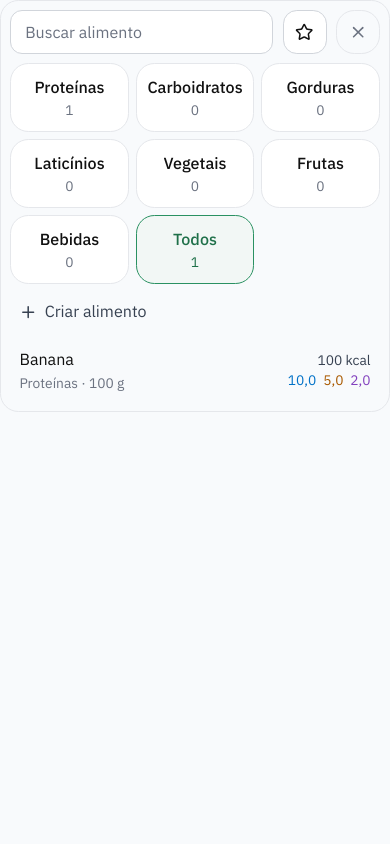
Test case: creating a food without leaving the picker › saves through the same service as /alimentos, then picks the new food and returns to search
This screenshot has width=390, height=844.
Check: the search field named "Buscar alimento para adicionar" is enabled, box [10,10,274,54]
Click the button "Criar alimento".
click(96, 311)  # box [10,293,380,330]
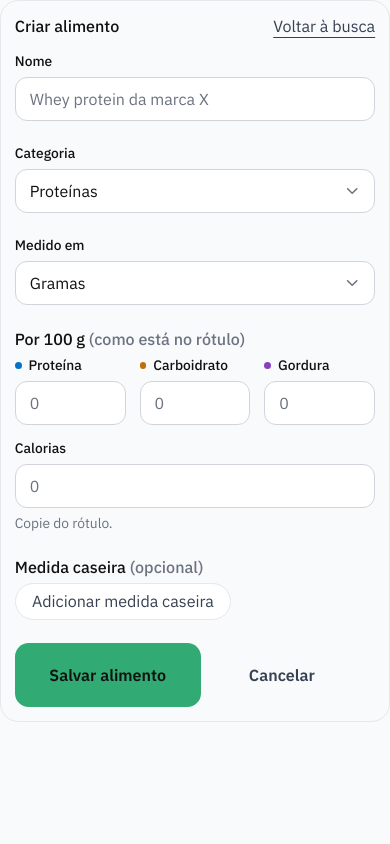
Type "Barra proteica" into the field labelled "Nome".
click(195, 99); type("Barra proteica")  # box [15,77,375,121]
Type "100" into the field labelled "Calorias".
click(195, 486); type("100")  # box [15,464,375,508]
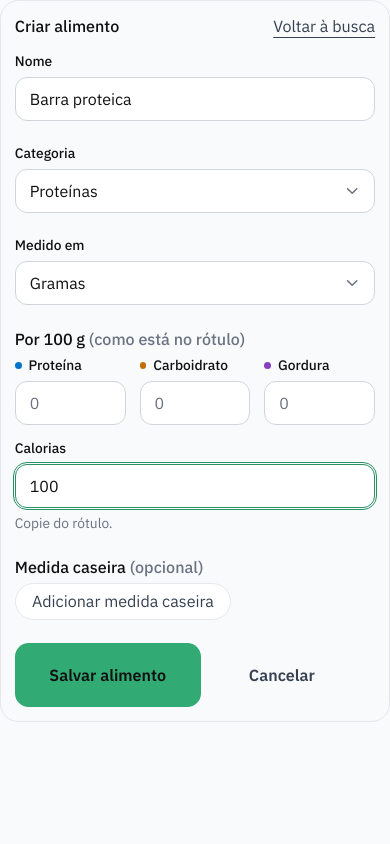
Type "10" into the field labelled "Proteína".
click(70, 403); type("10")  # box [15,381,126,425]
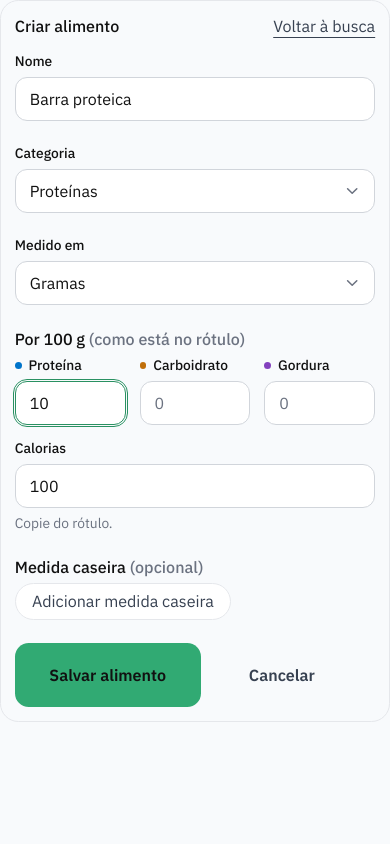
Type "10" into the field labelled "Carboidrato".
click(195, 403); type("10")  # box [140,381,250,425]
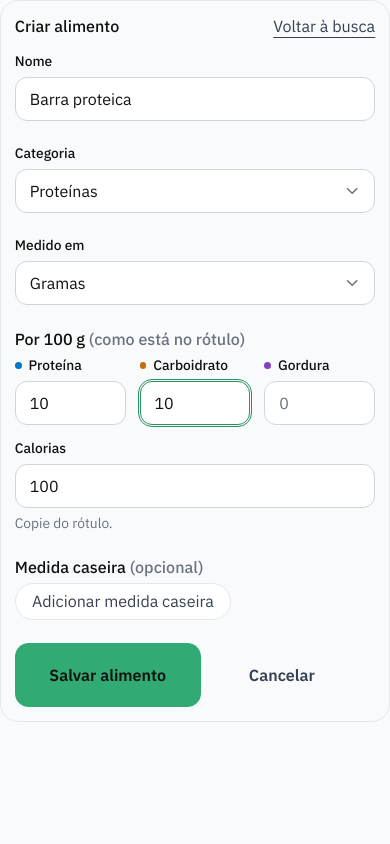
Type "1" into the field labelled "Gordura".
click(320, 403); type("1")  # box [264,381,375,425]
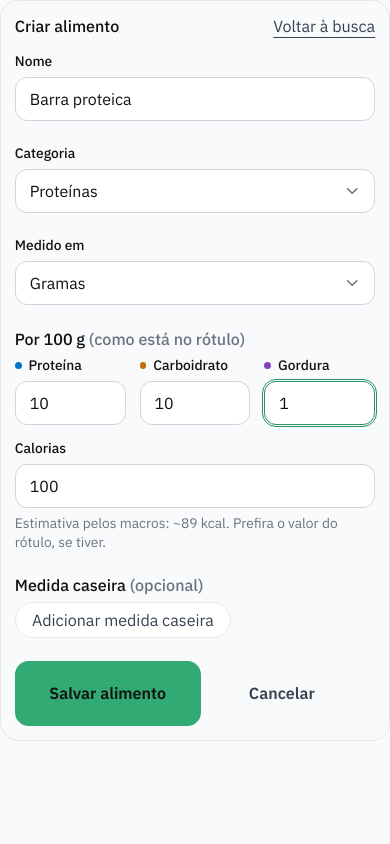
Click the button "Salvar alimento".
click(108, 694)  # box [15,661,201,726]
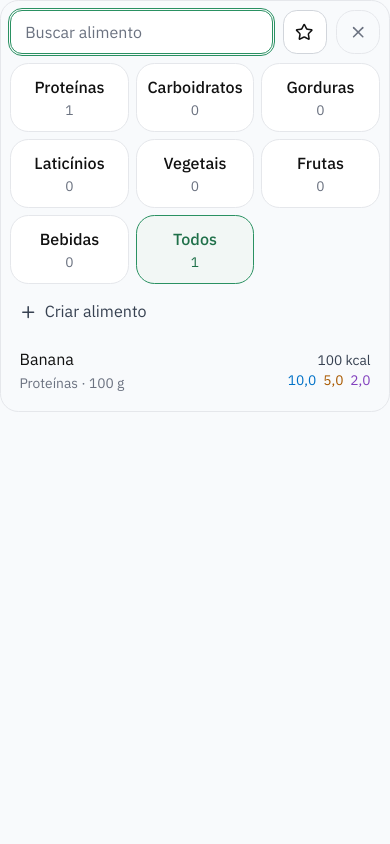
Check: the search field named "Buscar alimento para adicionar" is shown, box [10,10,274,54]
